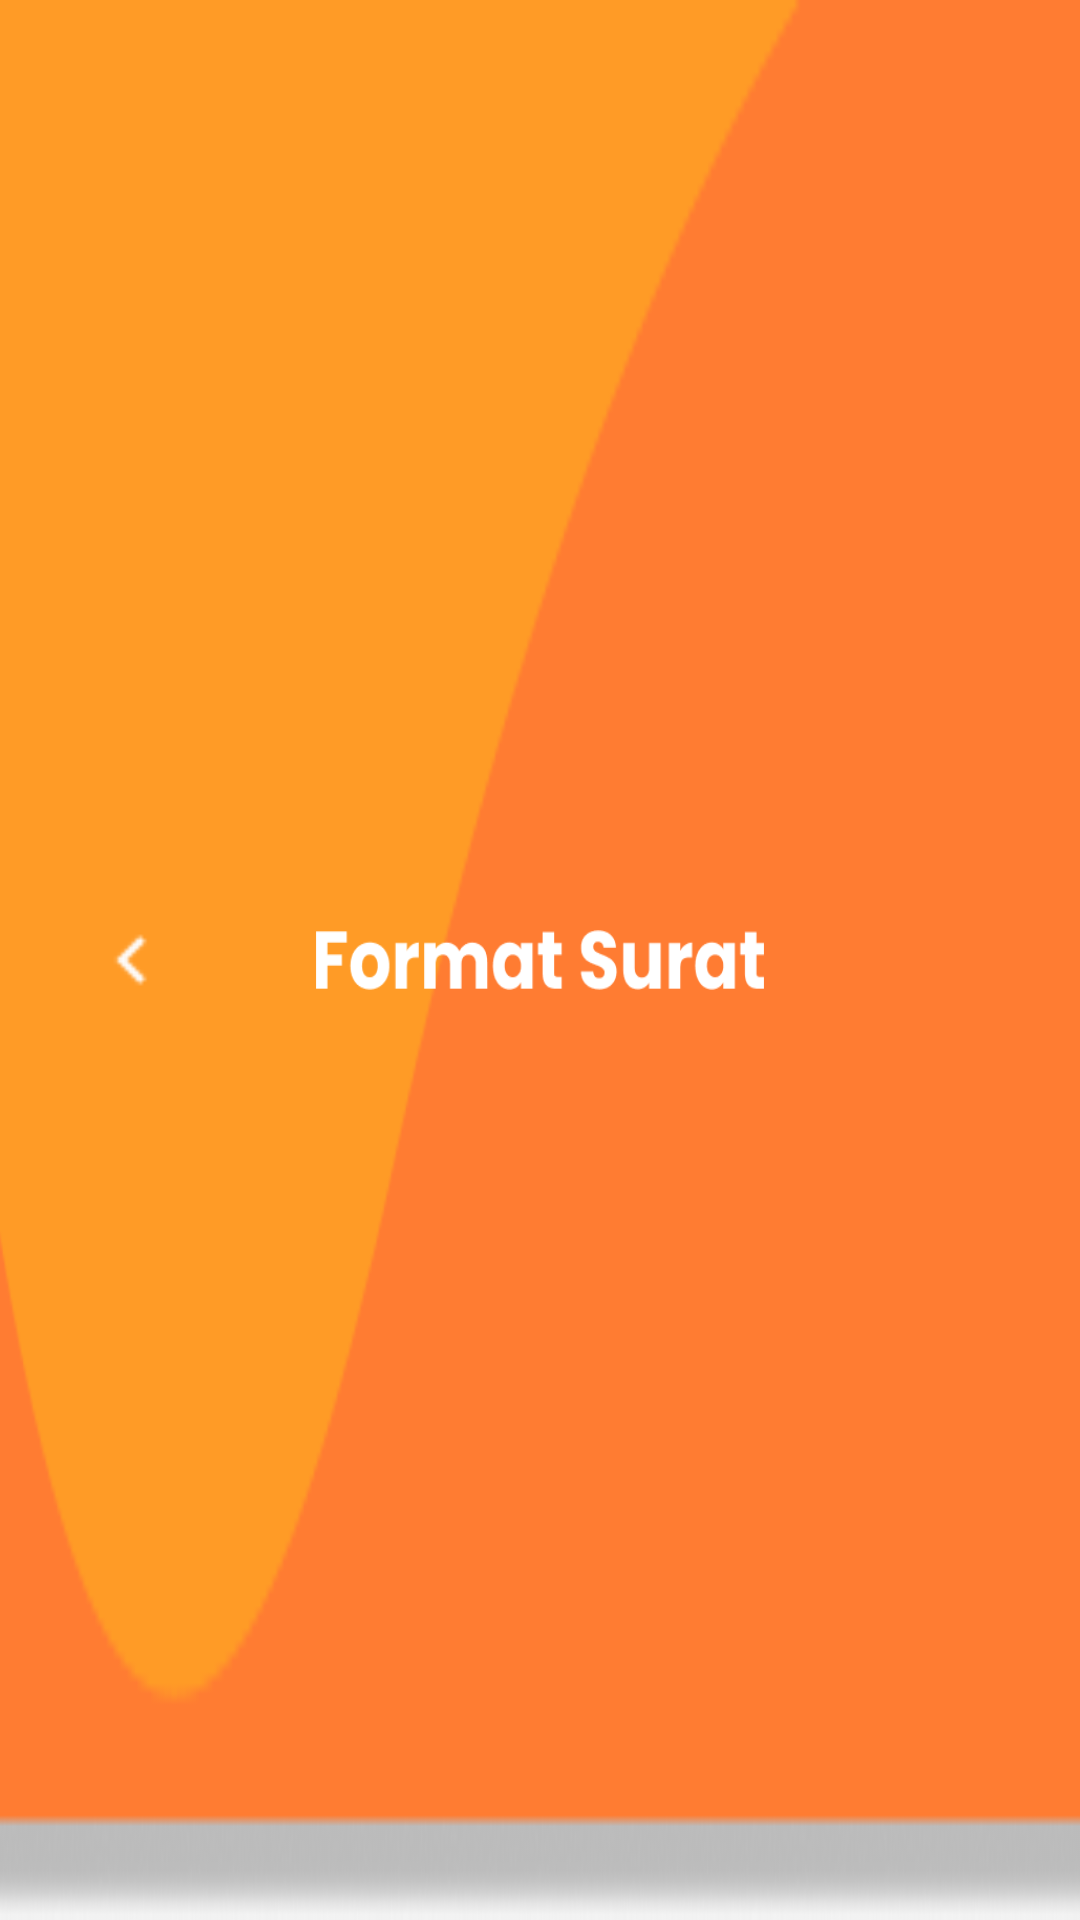

Icons on this 1080*1920 Android screen, each with its box as (x1, y1, x2, y2):
expand left: (116, 935, 147, 985)
